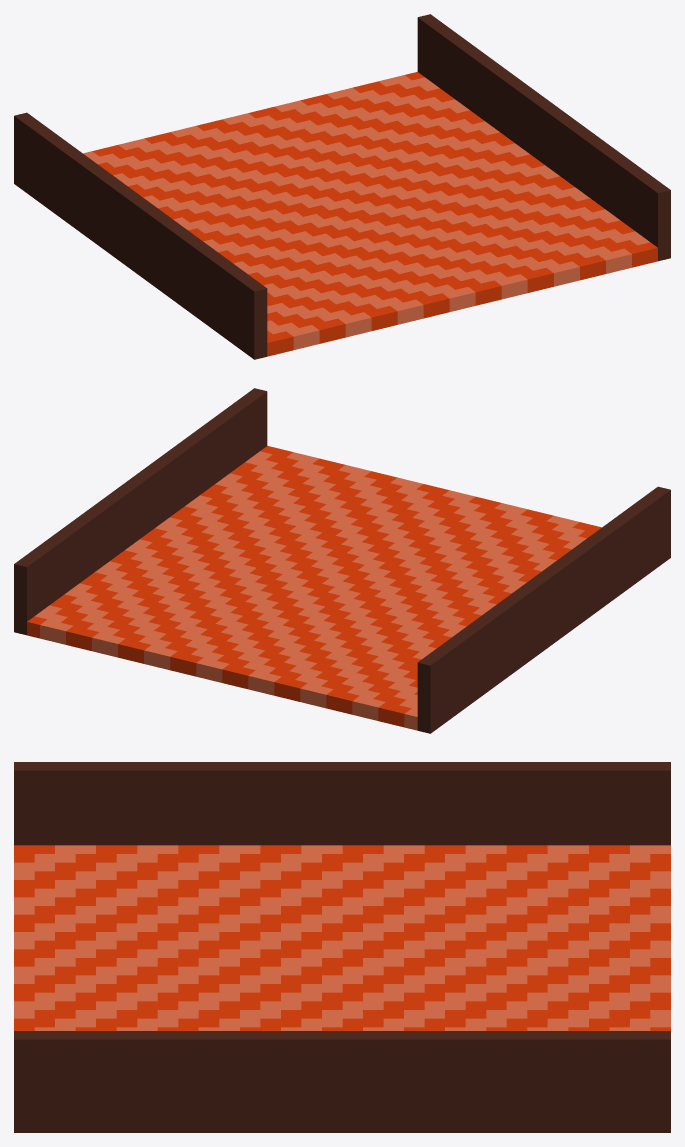
The model's file is Blocker Bone Map 1-6.obj.
The picture shows the model from 3 angles, top to bottom: view 1: azimuth 30°, elevation 25°; view 2: azimuth 150°, elevation 25°; view 3: azimuth 270°, elevation 25°; orthographic projection. The views are drawn at different scales.
Bounding box in the file's own units: 3.2 × 0.5 × 3.2.
1 material, 1 textured.
